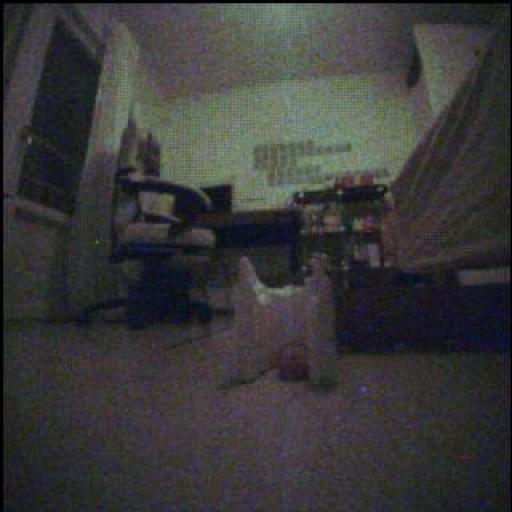basket: (281, 343, 310, 382)
